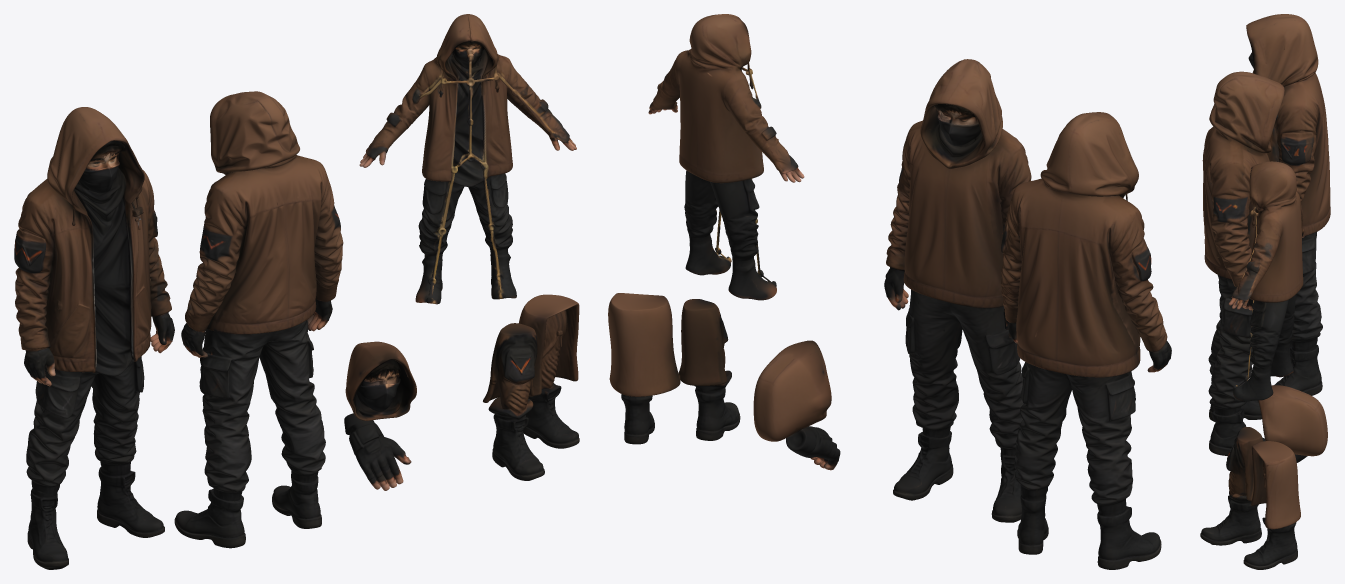
The model's file is 019dd687-c6f4-79e3-bcdd-74ff234ffc71.glb.
The picture shows the model from 3 angles, left to right: view 1: azimuth 30°, elevation 25°; view 2: azimuth 150°, elevation 25°; view 3: azimuth 270°, elevation 25°; orthographic projection. The views are drawn at different scales.
Visible parts, largest first — view 1: material; view 2: material; view 3: material.
Part boxes in pixels (bbox=[...]): material: bbox=[14, 14, 579, 569]; material: bbox=[608, 14, 1171, 569]; material: bbox=[1200, 14, 1330, 569].
Bounding box in the file's own units: 0.979 × 0.7479 × 0.2389.
1 material, 1 textured.
